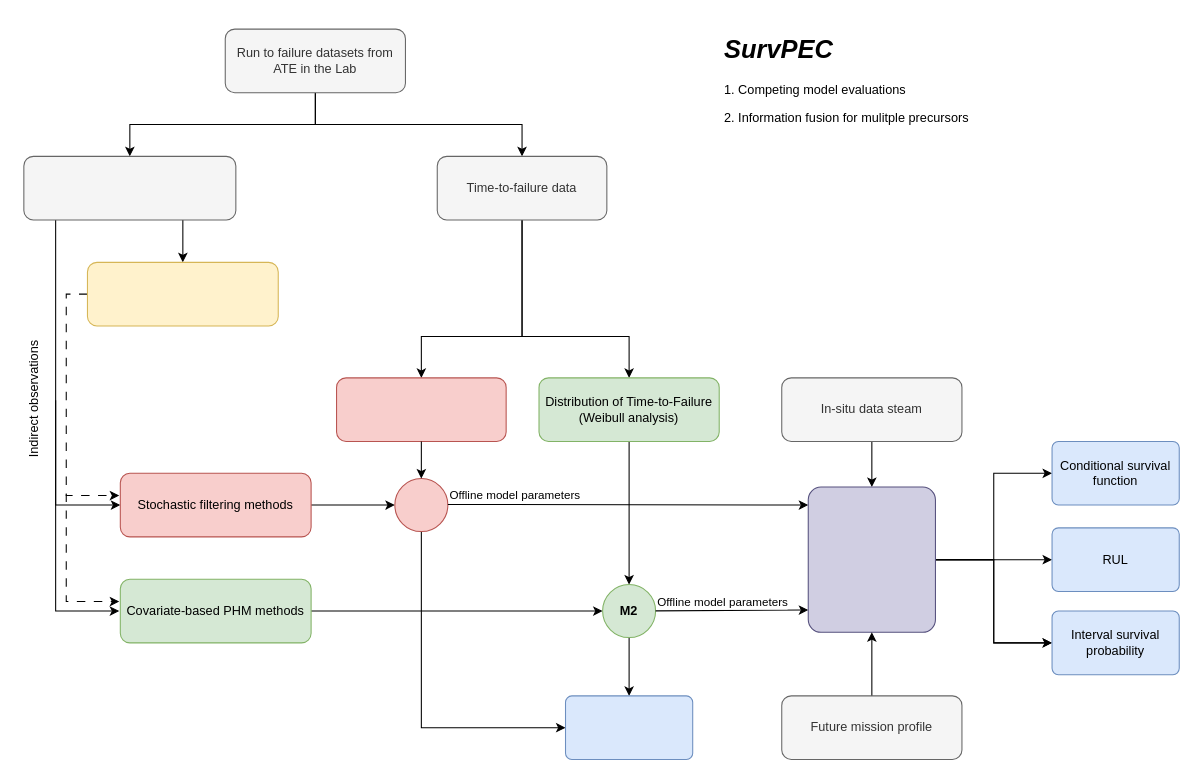
This 1203x778 diagram has some shape labels left out. Here are the shapes that lost their labels. From the top down, the centre of each, then its label:
At (x=129, y=187): "Degradation data".
At (x=182, y=293): "Multiple precuror fusion".
At (x=420, y=409): "Distribution of Failure threshold (e.g., Gaussian)".
At (x=421, y=505): "M1".
At (x=871, y=559): "Model calibriation (parameter & state co-estimation)".
At (x=628, y=727): "Lifetime estimation".
